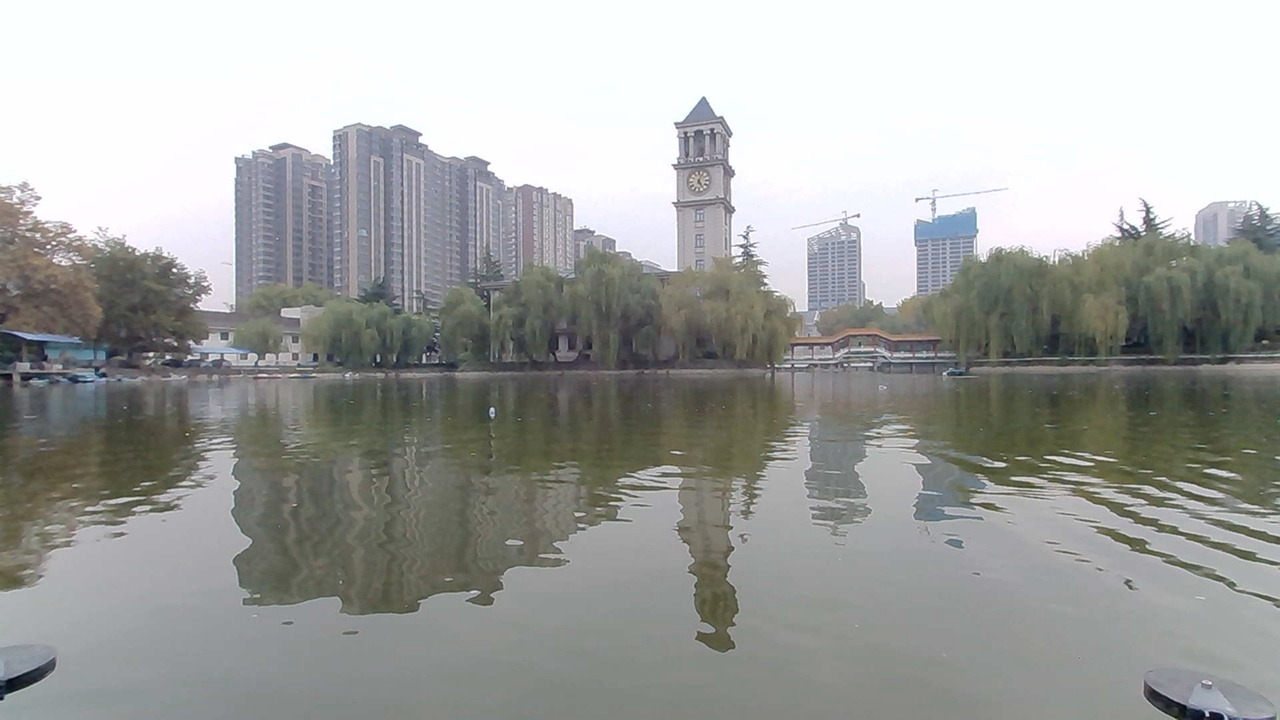bottle: (466, 397, 518, 429), (868, 377, 899, 399)
